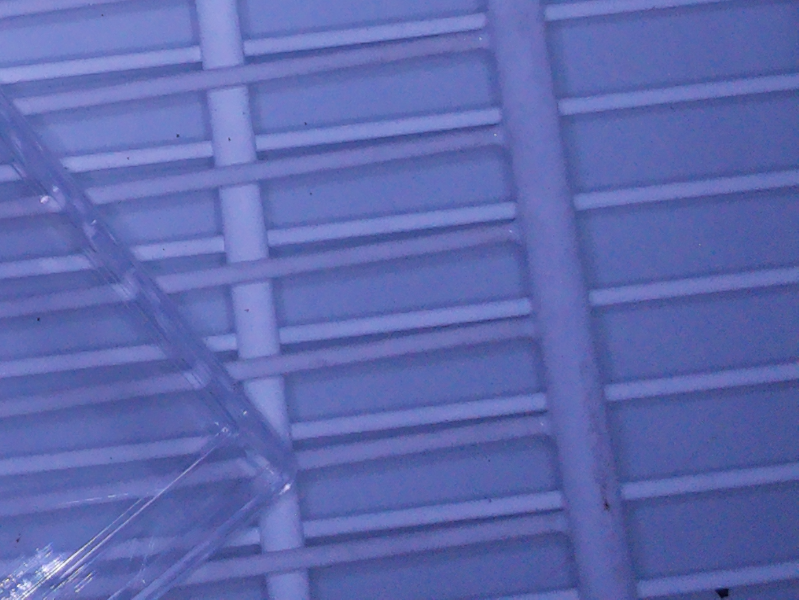plate: (1, 98, 300, 600)
